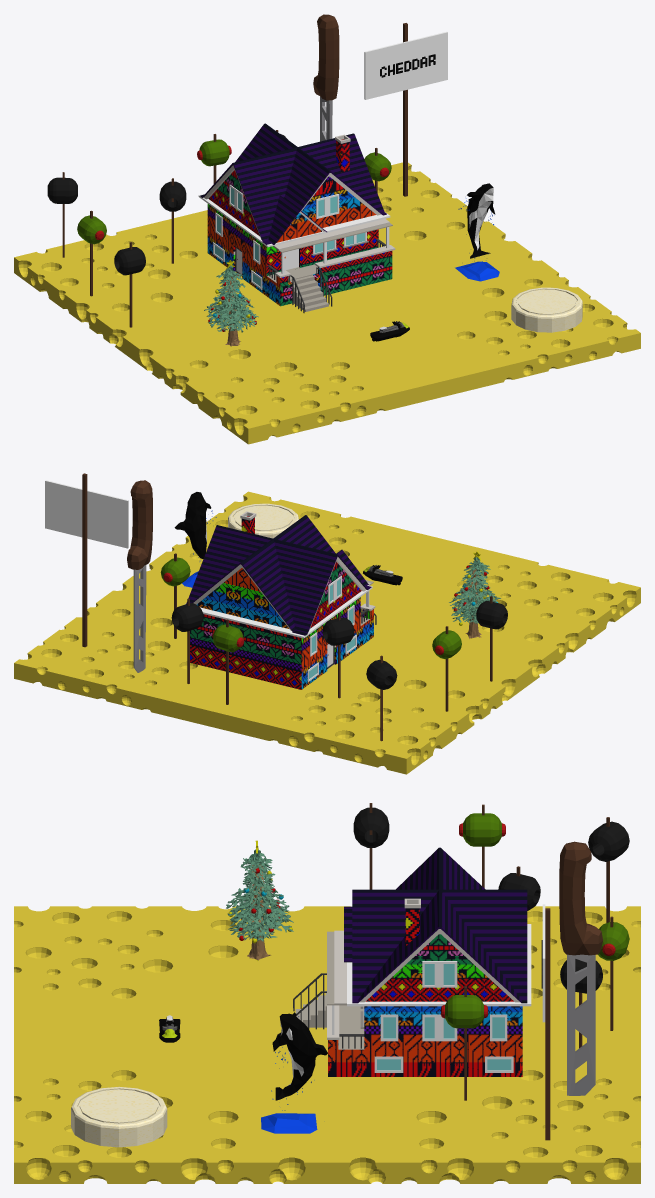
3 renders of one model, top to bottom at view 1: azimuth 30°, elevation 25°; view 2: azimuth 150°, elevation 25°; view 3: azimuth 270°, elevation 25°, orthographic. The views are drawn at different scales.
Parts seen in each view (by area): view 1: Cube.022, Cube.966, Cube.023, Cylinder.016, Cube.024, OBJRANDOM_CHRISTMAS_TREE, ANIMAL_ORCA, Sphere.017, Sphere.016, Sphere.020, Sphere.018, Sphere.022 (+1 smaller); view 2: Cube.022, Cube.966, Cube.023, Cube.024, OBJRANDOM_CHRISTMAS_TREE, Cylinder.016, ANIMAL_ORCA, Sphere.017, Sphere.020, Sphere.021, Sphere.016, Sphere.018 (+3 smaller); view 3: Cube.022, Cube.966, Cube.024, Cylinder.016, OBJRANDOM_CHRISTMAS_TREE, ANIMAL_ORCA, Cube.023, Sphere.019, Sphere.016, Sphere.018, Sphere.017, Sphere.022 (+2 smaller).
Boxes of the visible parts, left/top/right/bottom form: Cube.022: left=14, top=162, right=640, bottom=444; Cube.966: left=198, top=123, right=395, bottom=313; Cube.023: left=364, top=23, right=447, bottom=196; Cylinder.016: left=511, top=287, right=582, bottom=332; Cube.024: left=313, top=14, right=339, bottom=141; OBJRANDOM_CHRISTMAS_TREE: left=204, top=260, right=258, bottom=346; ANIMAL_ORCA: left=455, top=183, right=499, bottom=281; Sphere.017: left=114, top=242, right=145, bottom=327; Sphere.016: left=47, top=172, right=77, bottom=257; Sphere.020: left=159, top=178, right=186, bottom=263; Sphere.018: left=77, top=210, right=106, bottom=296; Sphere.022: left=197, top=134, right=231, bottom=183; Cube.022: left=14, top=491, right=640, bottom=774; Cube.966: left=185, top=511, right=376, bottom=689; Cube.023: left=45, top=473, right=128, bottom=647; Cube.024: left=127, top=480, right=152, bottom=672; OBJRANDOM_CHRISTMAS_TREE: left=449, top=551, right=500, bottom=638; Cylinder.016: left=228, top=503, right=298, bottom=538; ANIMAL_ORCA: left=174, top=492, right=216, bottom=587; Sphere.017: left=476, top=596, right=507, bottom=681; Sphere.020: left=322, top=612, right=354, bottom=698; Sphere.021: left=171, top=598, right=203, bottom=683; Sphere.016: left=366, top=655, right=397, bottom=741; Sphere.018: left=432, top=626, right=461, bottom=711; Cube.022: left=14, top=906, right=640, bottom=1183; Cube.966: left=293, top=847, right=531, bottom=1076; Cube.024: left=559, top=841, right=602, bottom=1095; Cylinder.016: left=71, top=1086, right=167, bottom=1147; OBJRANDOM_CHRISTMAS_TREE: left=226, top=840, right=293, bottom=961; ANIMAL_ORCA: left=261, top=1012, right=327, bottom=1133; Cube.023: left=541, top=904, right=550, bottom=1140; Sphere.019: left=441, top=986, right=487, bottom=1100; Sphere.016: left=588, top=817, right=629, bottom=922; Sphere.018: left=459, top=804, right=505, bottom=887; Sphere.017: left=353, top=803, right=389, bottom=889; Sphere.022: left=598, top=916, right=629, bottom=1030.
Size of the model in its own units: 3917 by 2007 by 4000.
40 materials, 7 textured.
